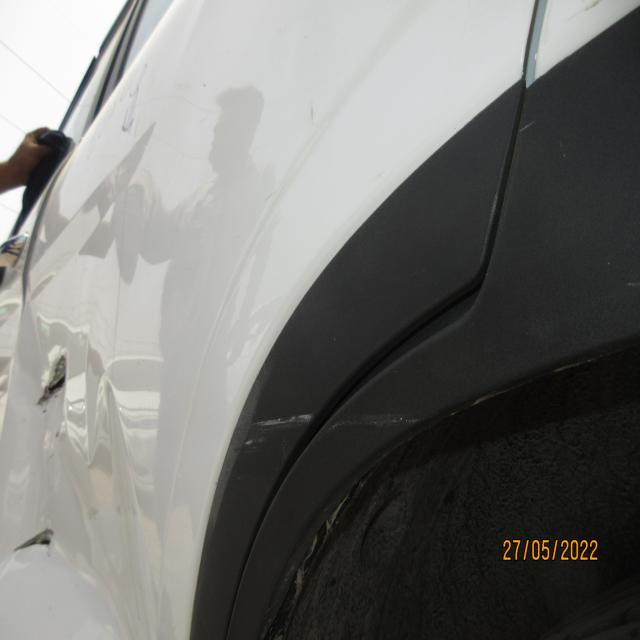damage: (226, 387, 320, 472), (329, 394, 425, 460)
